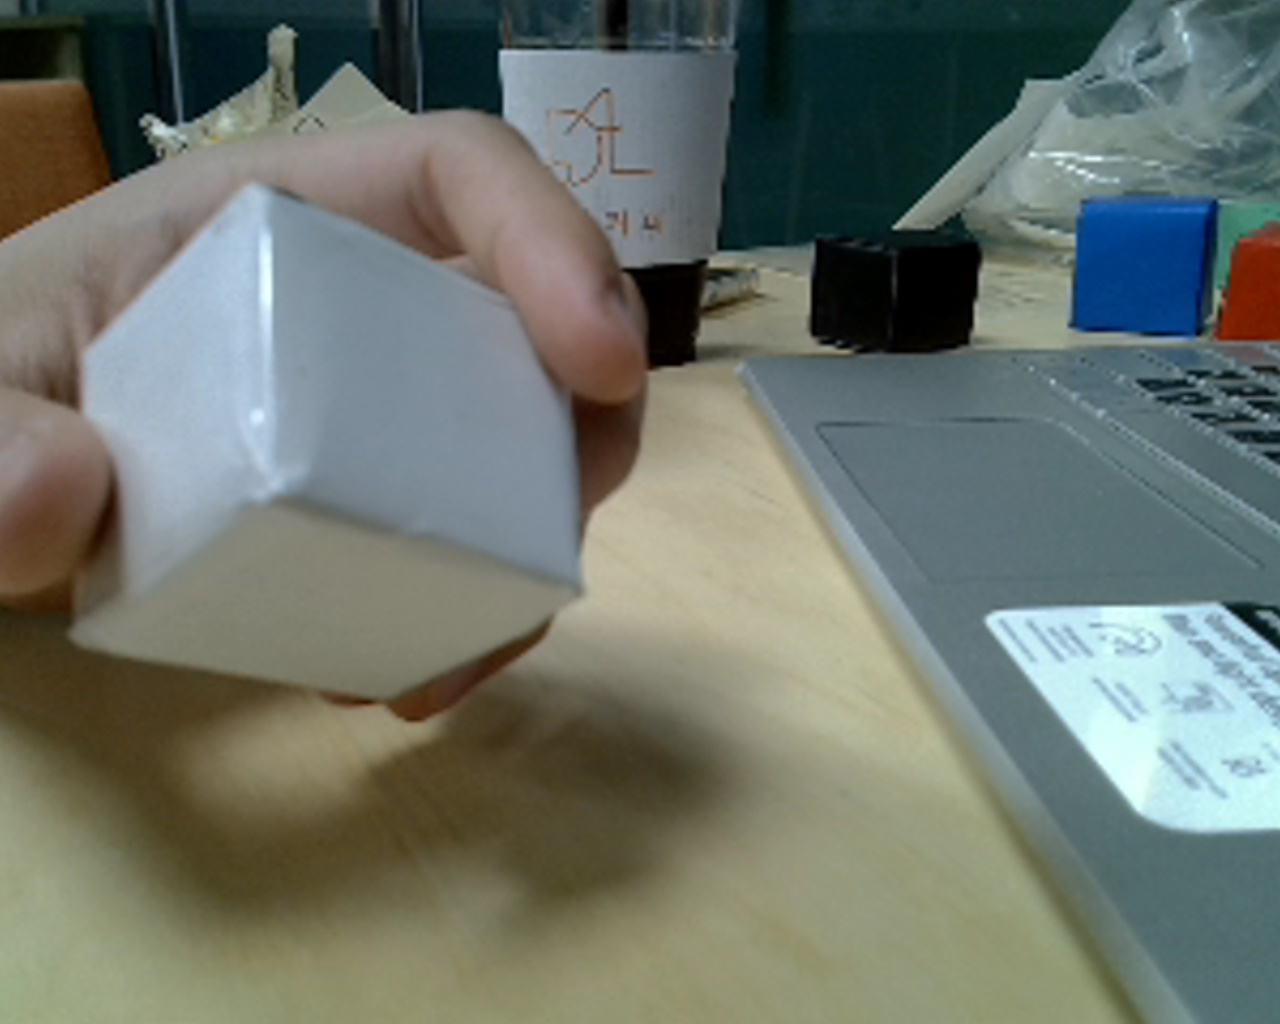whitebox: (38, 169, 653, 721)
